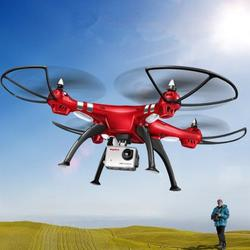drone: (1, 62, 250, 196)
